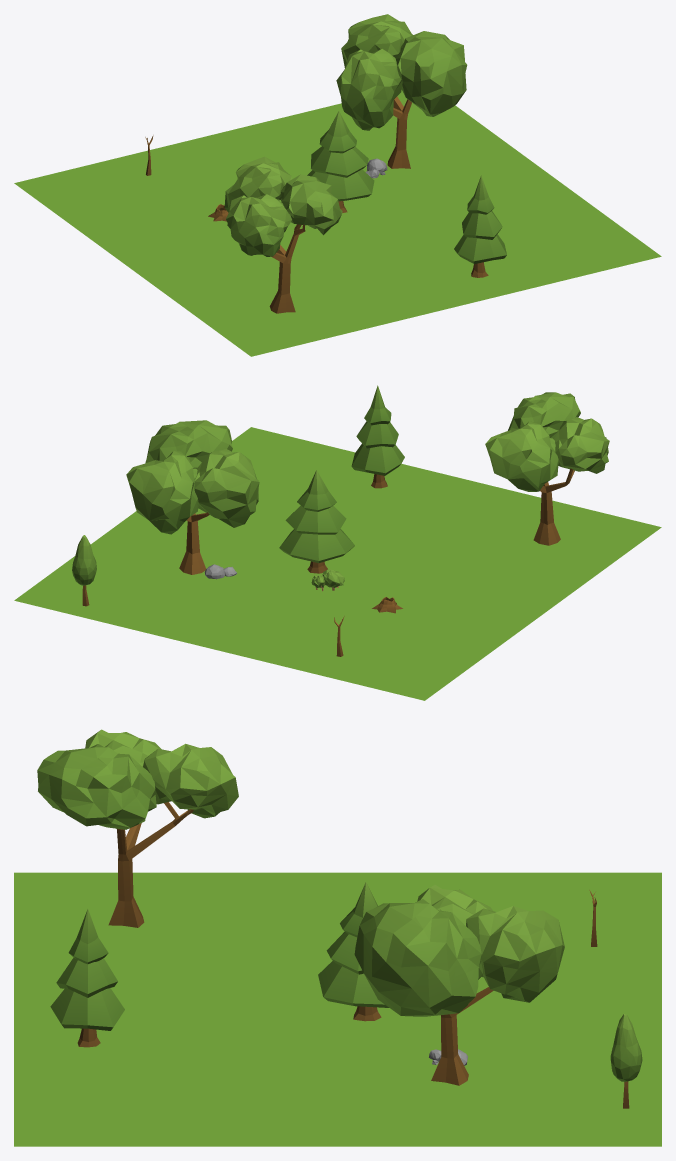
The model's file is enviroment_4.gltf.
3 renders of one model, top to bottom at view 1: azimuth 30°, elevation 25°; view 2: azimuth 150°, elevation 25°; view 3: azimuth 270°, elevation 25°, orthographic. The views are drawn at different scales.
Parts seen in each view (by area): view 1: SimpleGround.002, Tree_average_lush, Tree_average_regular, Tree_Spruce_tiny_02.002, Tree_Spruce_tiny_01; view 2: SimpleGround.002, Tree_average_lush, Tree_average_regular, Tree_Spruce_tiny_02.002, Tree_Spruce_tiny_01, Tree_small_regular, Bush_group_small; view 3: SimpleGround.002, Tree_average_lush, Tree_average_regular, Tree_Spruce_tiny_01, Tree_Spruce_tiny_02.002, Tree_small_regular.
Part boxes in pixels (bbox=[...]): SimpleGround.002: bbox=[14, 90, 661, 356]; Tree_average_lush: bbox=[336, 14, 467, 168]; Tree_average_regular: bbox=[224, 156, 342, 313]; Tree_Spruce_tiny_02.002: bbox=[307, 111, 374, 212]; Tree_Spruce_tiny_01: bbox=[454, 175, 506, 277]; SimpleGround.002: bbox=[14, 427, 661, 700]; Tree_average_lush: bbox=[126, 420, 259, 574]; Tree_average_regular: bbox=[485, 392, 609, 545]; Tree_Spruce_tiny_02.002: bbox=[279, 470, 354, 573]; Tree_Spruce_tiny_01: bbox=[351, 385, 404, 488]; Tree_small_regular: bbox=[72, 535, 96, 606]; Bush_group_small: bbox=[311, 569, 344, 591]; SimpleGround.002: bbox=[14, 872, 661, 1146]; Tree_average_lush: bbox=[354, 885, 564, 1085]; Tree_average_regular: bbox=[37, 729, 238, 927]; Tree_Spruce_tiny_01: bbox=[50, 909, 124, 1047]; Tree_Spruce_tiny_02.002: bbox=[318, 882, 388, 1021]; Tree_small_regular: bbox=[610, 1014, 642, 1108].
Bounding box in the file's own units: 20 × 6.15 × 20.
3 materials, 2 textured.
